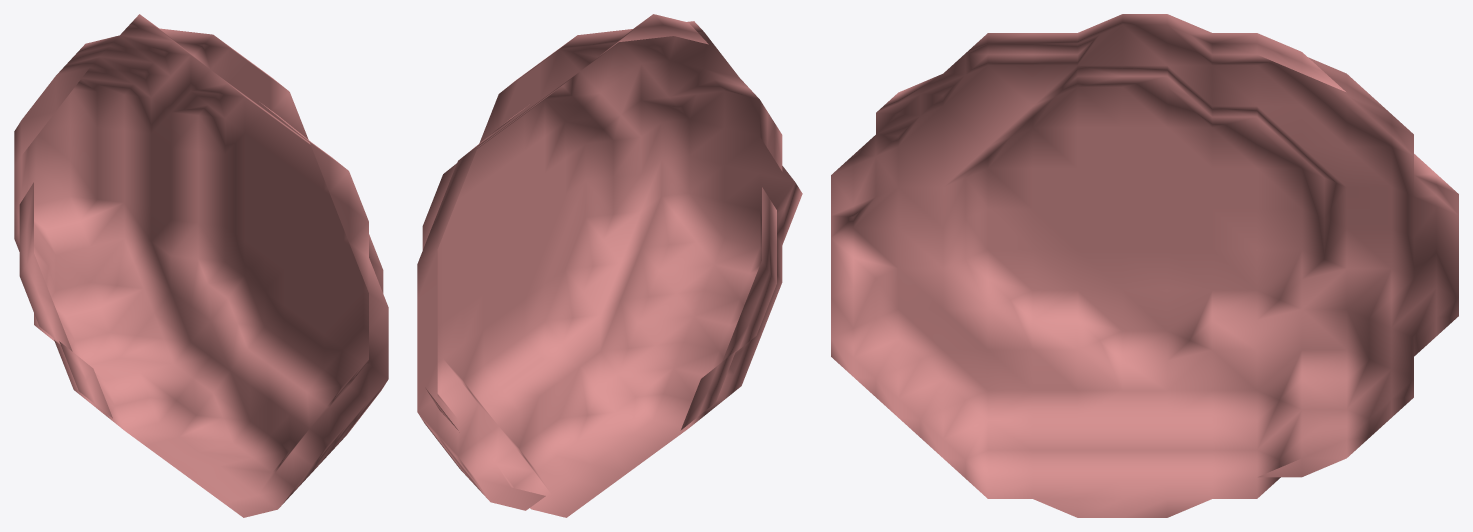
Rendered from 199517_occ.glb.
The picture shows the model from 3 angles, left to right: view 1: azimuth 30°, elevation 25°; view 2: azimuth 150°, elevation 25°; view 3: azimuth 270°, elevation 25°; orthographic projection. The views are drawn at different scales.
Visible parts, largest first — view 1: world; view 2: world; view 3: world.
Part boxes in pixels (bbox=[...]): world: bbox=[14, 14, 388, 517]; world: bbox=[417, 14, 802, 517]; world: bbox=[831, 14, 1458, 517].
Size of the model in its own units: 0.6 by 1.1 by 1.4.
